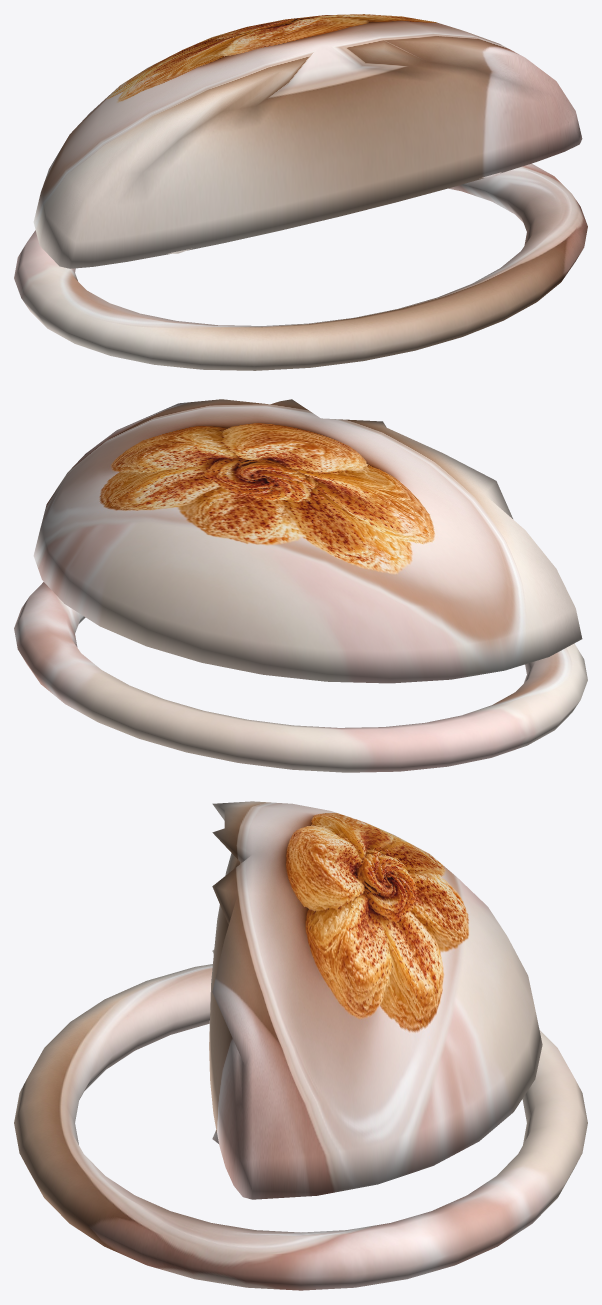
The model's file is prop_savory_cajun.glb.
3 views of the same model, one above another, from view 1: azimuth 30°, elevation 25°; view 2: azimuth 150°, elevation 25°; view 3: azimuth 270°, elevation 25° (orthographic). The views are drawn at different scales.
Visible parts, largest first — view 1: prop_savory_cajun; view 2: prop_savory_cajun; view 3: prop_savory_cajun.
Boxes of the visible parts, box(x1,y1,x2,y2) form: prop_savory_cajun: box(14, 14, 587, 370); prop_savory_cajun: box(14, 399, 587, 772); prop_savory_cajun: box(14, 801, 587, 1290).
Size of the model in its own units: 0.1513 by 0.0668 by 0.1184.
2 materials, 2 textured.
